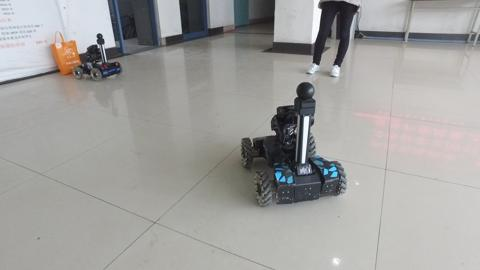bag: (48, 29, 82, 77)
chariot: (238, 79, 348, 210), (72, 32, 123, 82)
